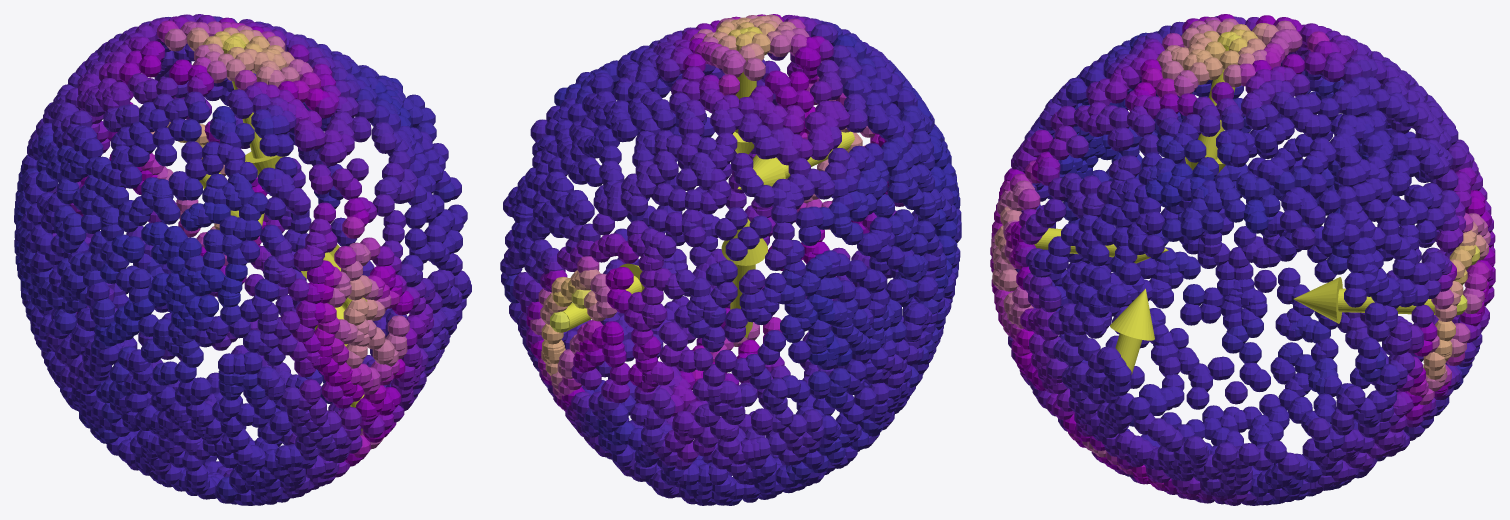
Rendered from pred_heatmap_2.glb.
The picture shows the model from 3 angles, left to right: view 1: azimuth 30°, elevation 25°; view 2: azimuth 150°, elevation 25°; view 3: azimuth 270°, elevation 25°; orthographic projection.
Parts seen in each view (by area): view 1: world; view 2: world; view 3: world.
Part boxes in pixels (x1,y1,x2,y2): world: (14,14,471,505); world: (500,14,961,505); world: (990,14,1495,505).
Size of the model in its own units: 1.06 by 1.29 by 1.29.
